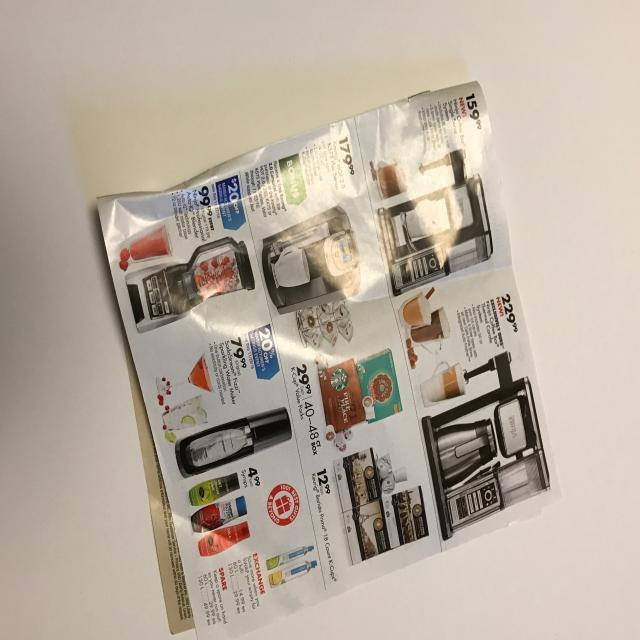paper: (92, 80, 562, 640)
